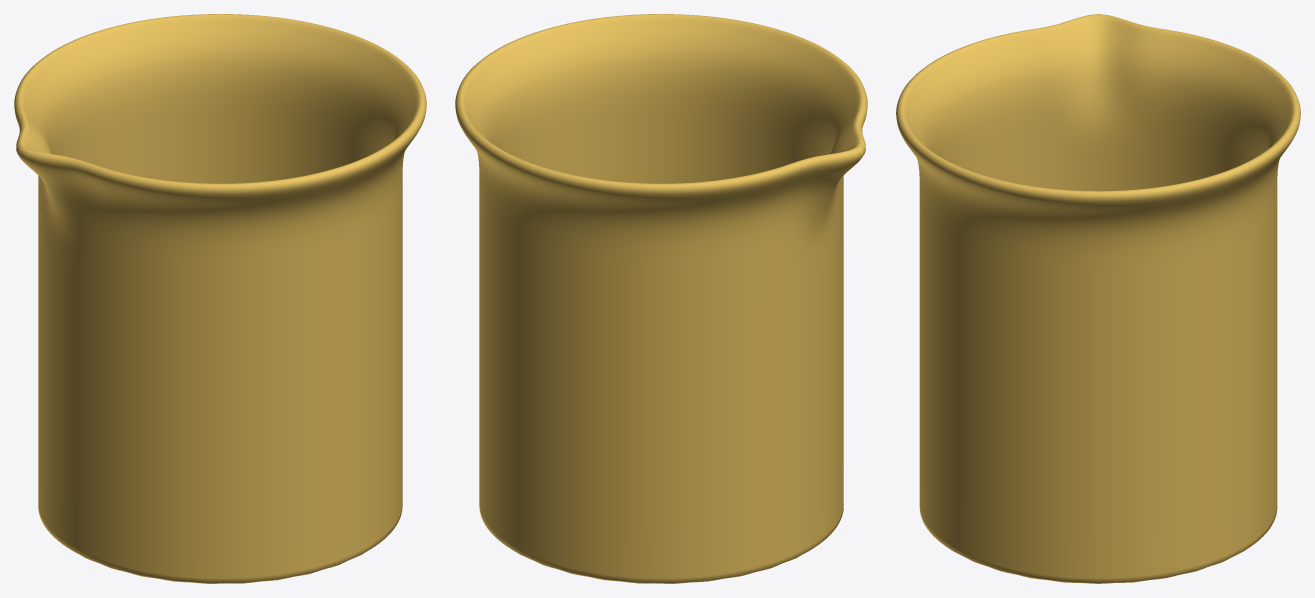
Rendered from asset.glb.
3 renders of one model, left to right at view 1: azimuth 30°, elevation 25°; view 2: azimuth 150°, elevation 25°; view 3: azimuth 270°, elevation 25°, orthographic.
Visible parts, largest first — view 1: Circle; view 2: Circle; view 3: Circle.
Boxes of the visible parts, x1=… form: Circle: x1=14, y1=14, x2=426, y2=583; Circle: x1=455, y1=14, x2=867, y2=583; Circle: x1=896, y1=14, x2=1300, y2=583.
Size of the model in its own units: 3.75 by 3.89 by 3.53.
